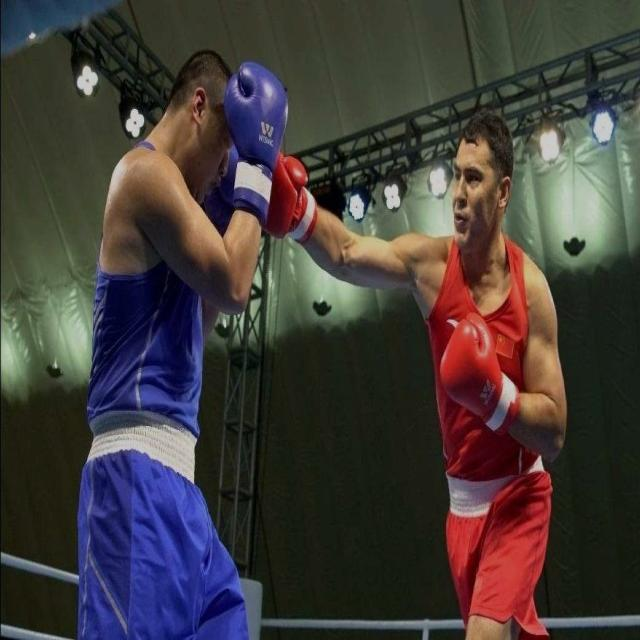fight: (79, 52, 548, 640)
